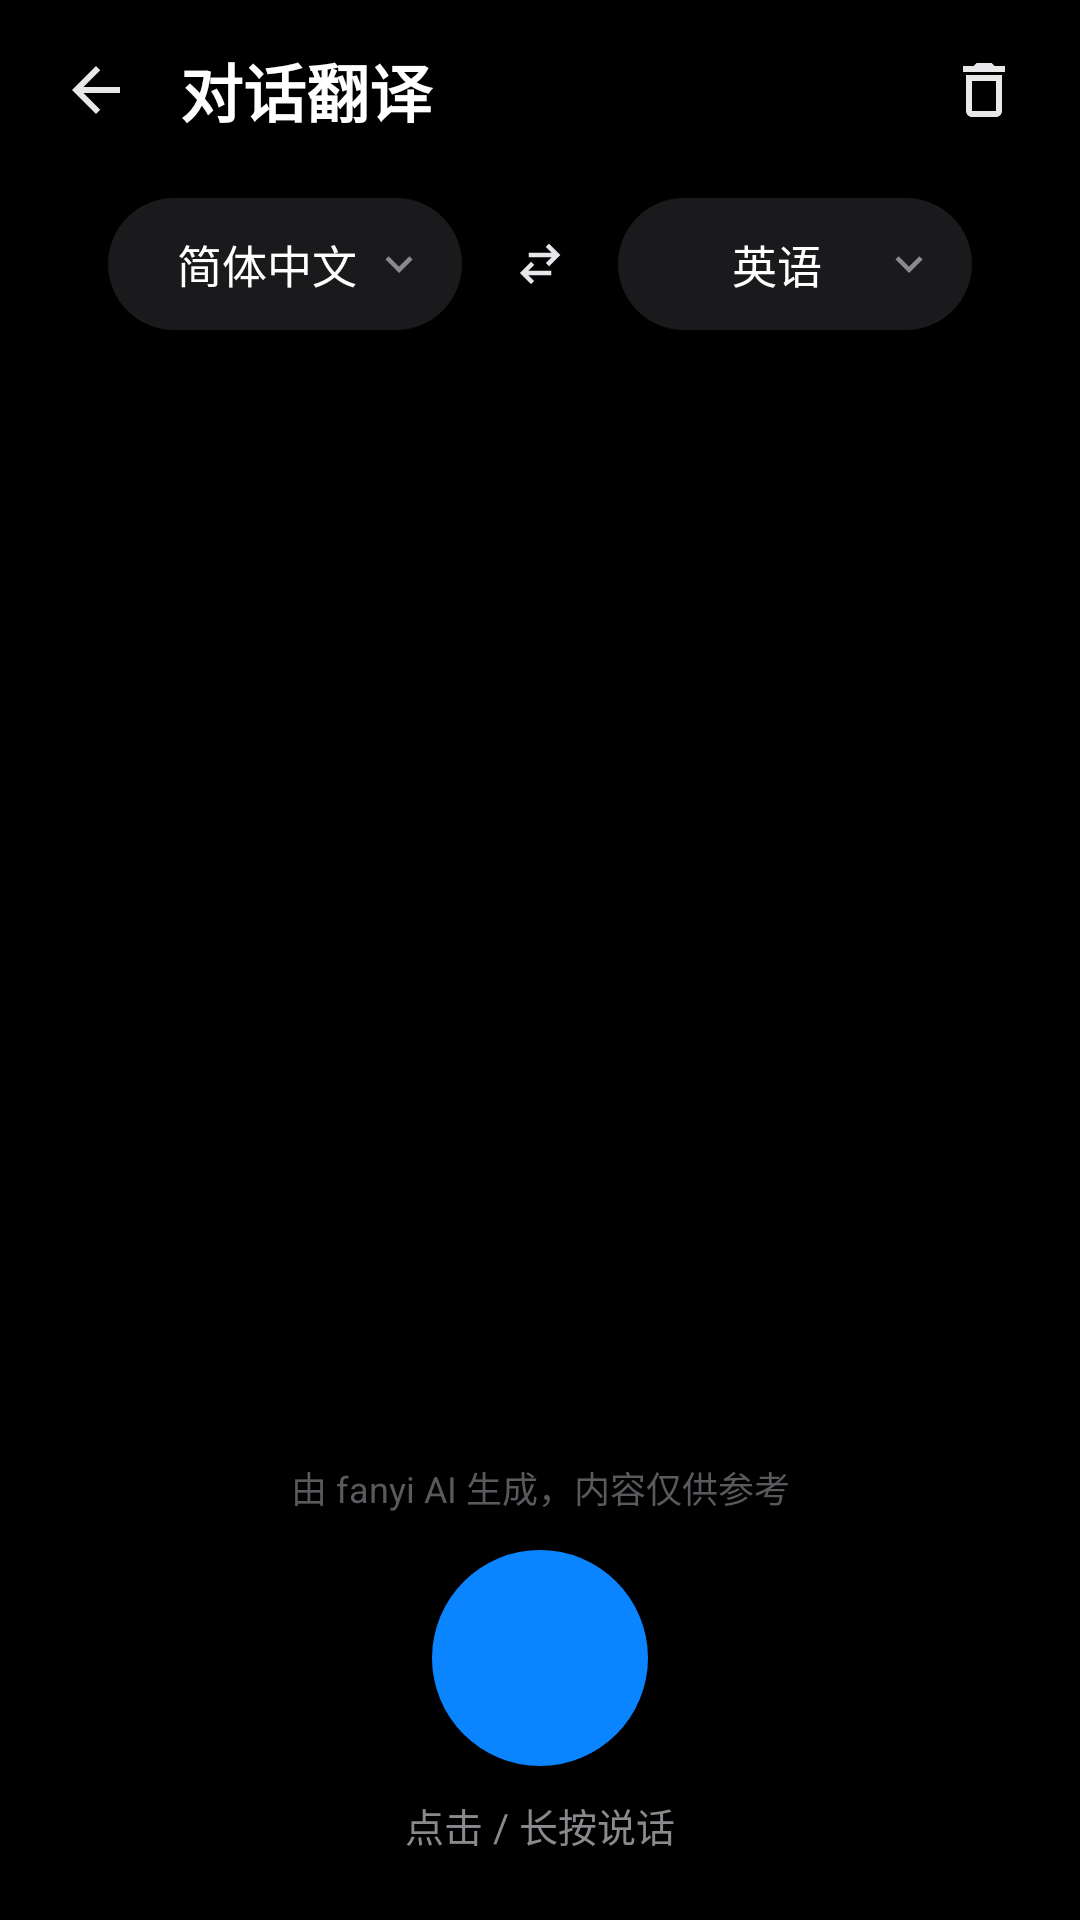

Point at icon controls on the screen. Image size 1080px x 1920px, points as (x,y).
切换翻译方向: (540,264)
清空对话: (984,90)
返回: (96,90)
选择语言: (399,264)
